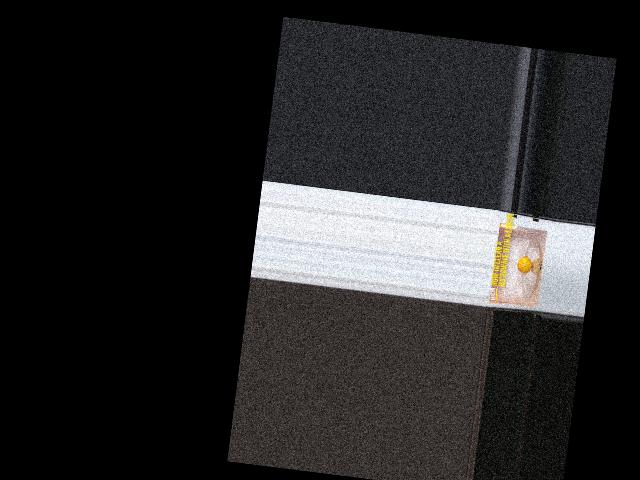lemon: (514, 247, 536, 275)
